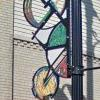Bicycle: (30, 2, 77, 95)
